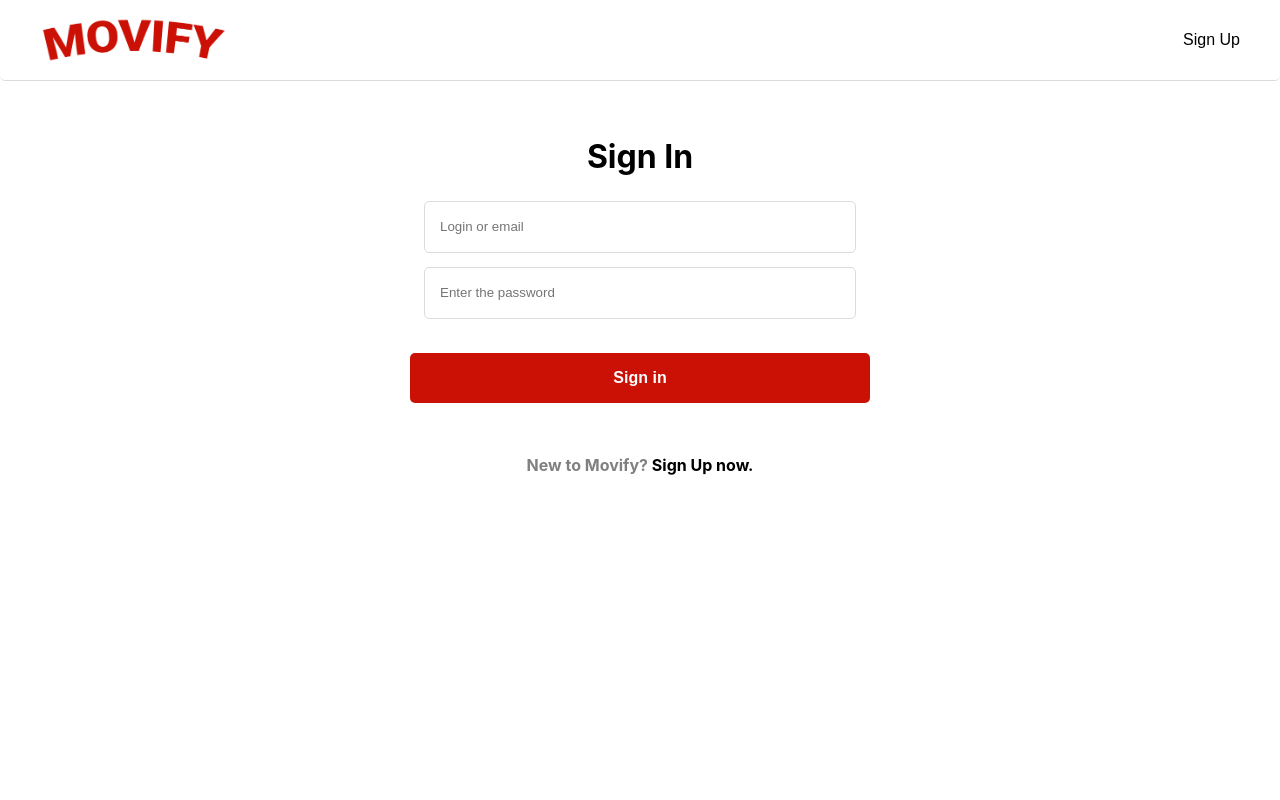
Test: Login Component › displays generic error message for unknown error
Type "testuser" into the field with placeholder "Login or email" at (640, 227), box [424,201,856,253]
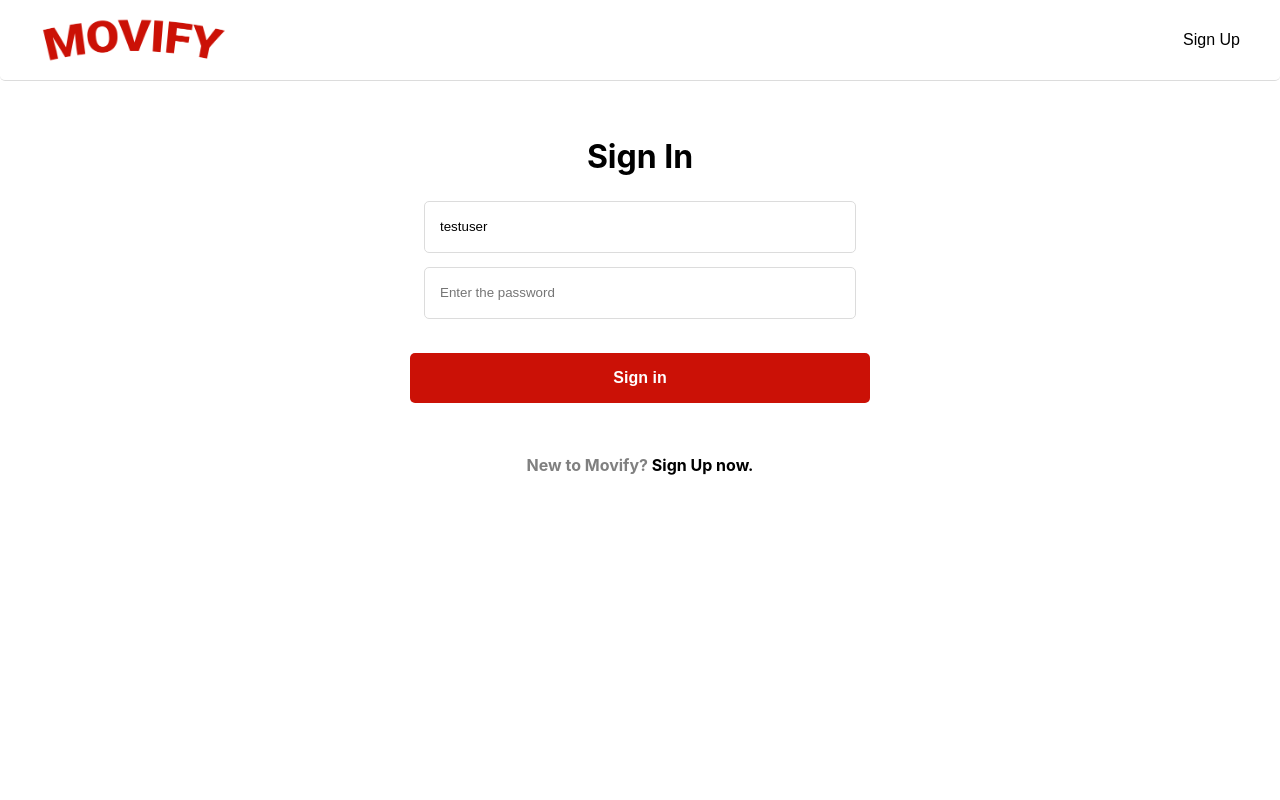
Type "password123" into the password field with placeholder "Enter the password" at (640, 293), box [424,267,856,319]
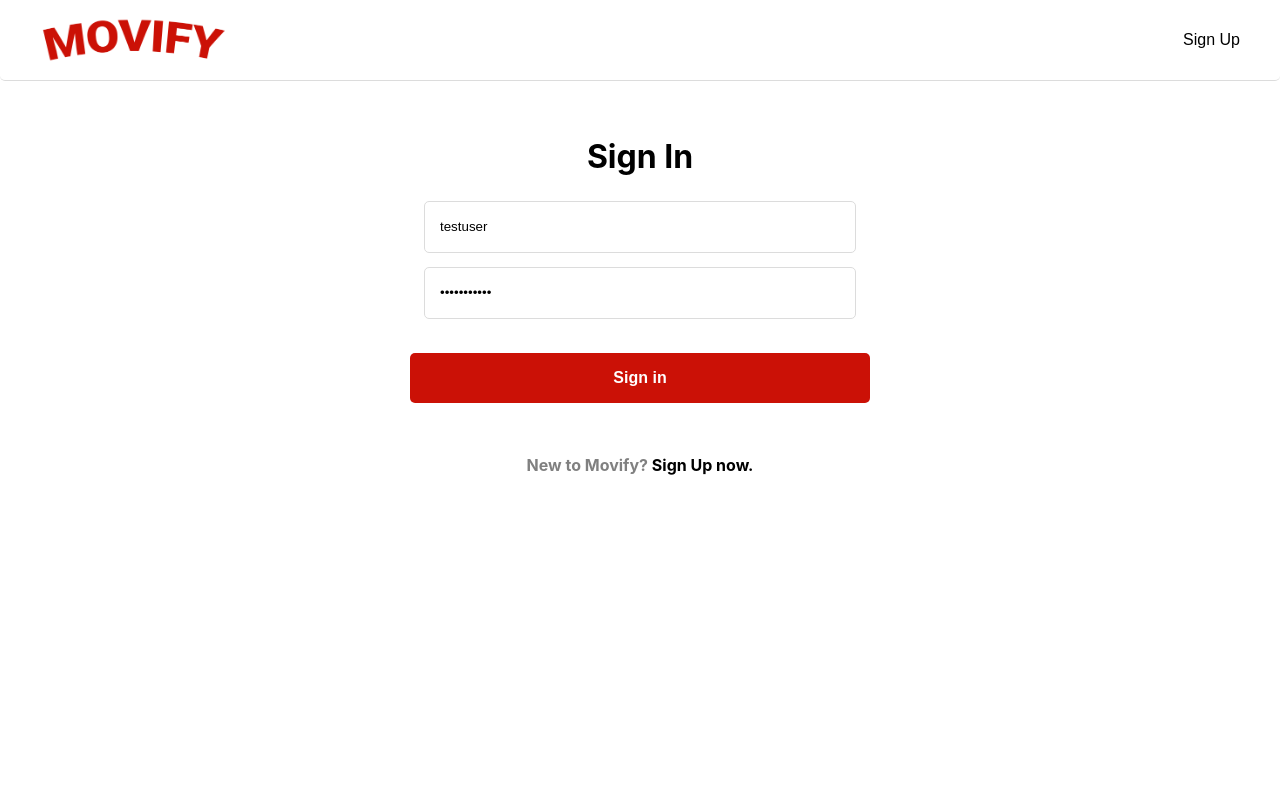
Click the button "Sign in" at (640, 378), box [410,353,870,403]
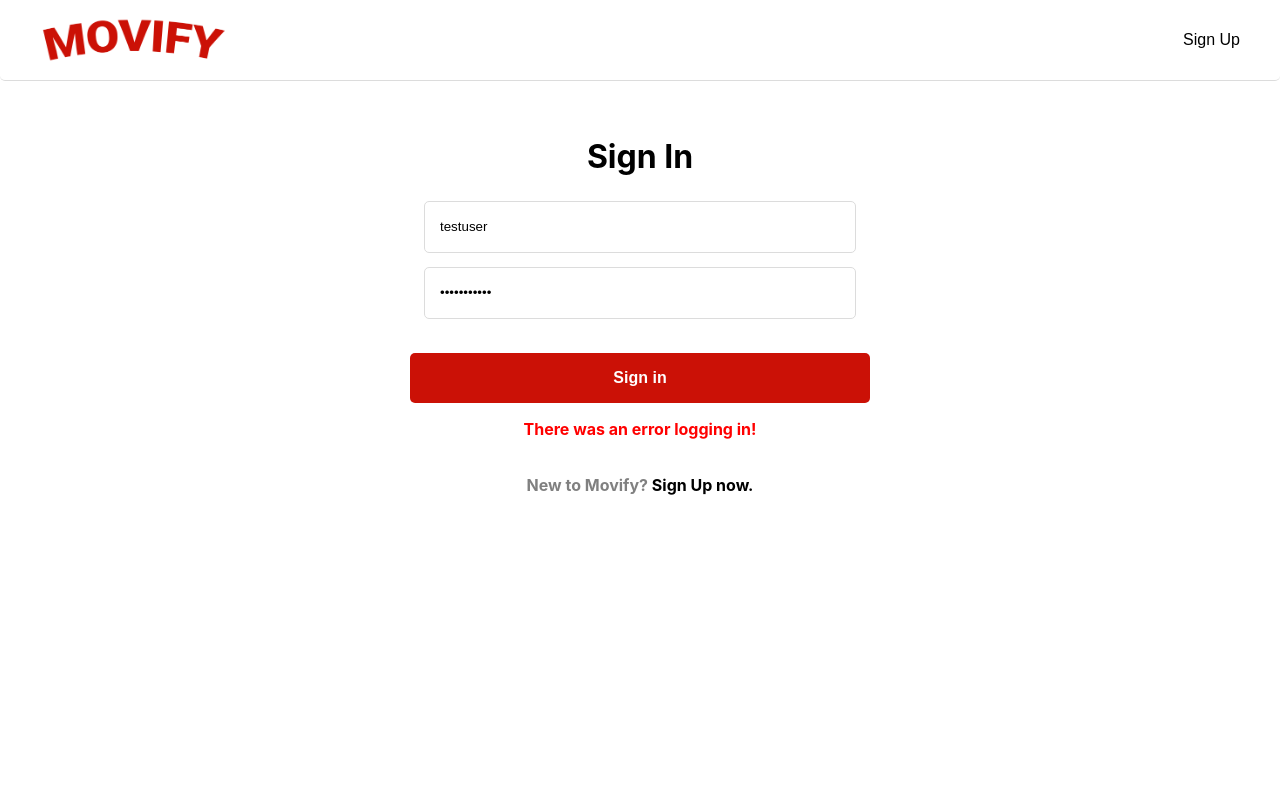
Now the text "There was an error logging in!" is shown, box [524,419,756,439]
